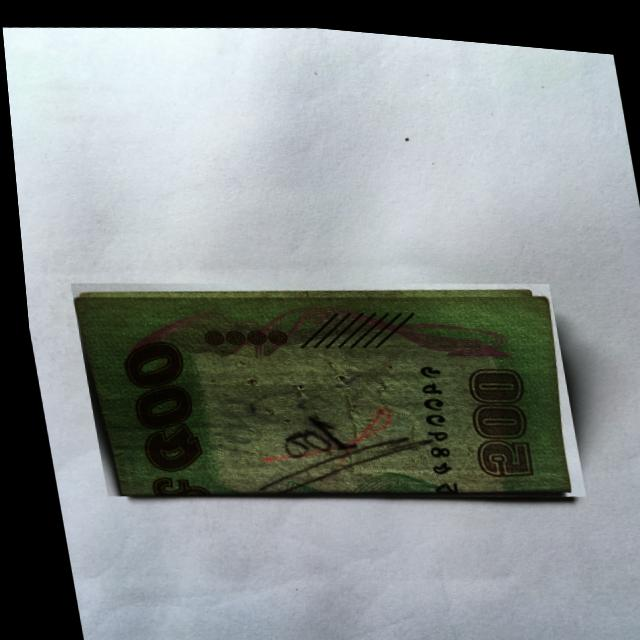Taka: (62, 241, 580, 529)
